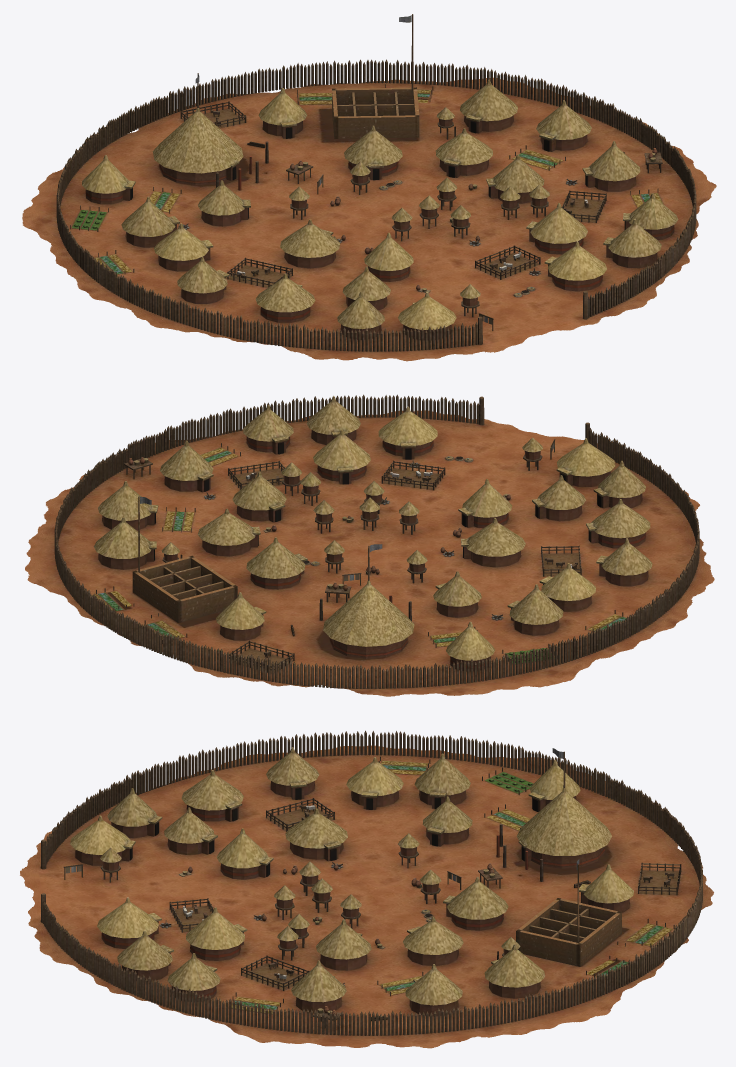
File: stone-town-big-a-westafrica.glb
3 views of the same model, one above another, from view 1: azimuth 30°, elevation 25°; view 2: azimuth 150°, elevation 25°; view 3: azimuth 270°, elevation 25° (orthographic). The views are drawn at different scales.
Visible parts, largest first — view 1: LOD0; view 2: LOD0; view 3: LOD0.
Part boxes in pixels (x1,y1,x2,y2): LOD0: [22, 14, 716, 361]; LOD0: [25, 394, 714, 696]; LOD0: [20, 730, 713, 1048].
Size of what is drawn, in the model's own units: 7.93 by 1.23 by 7.67.
Materials: 3 (3 with a texture image).
